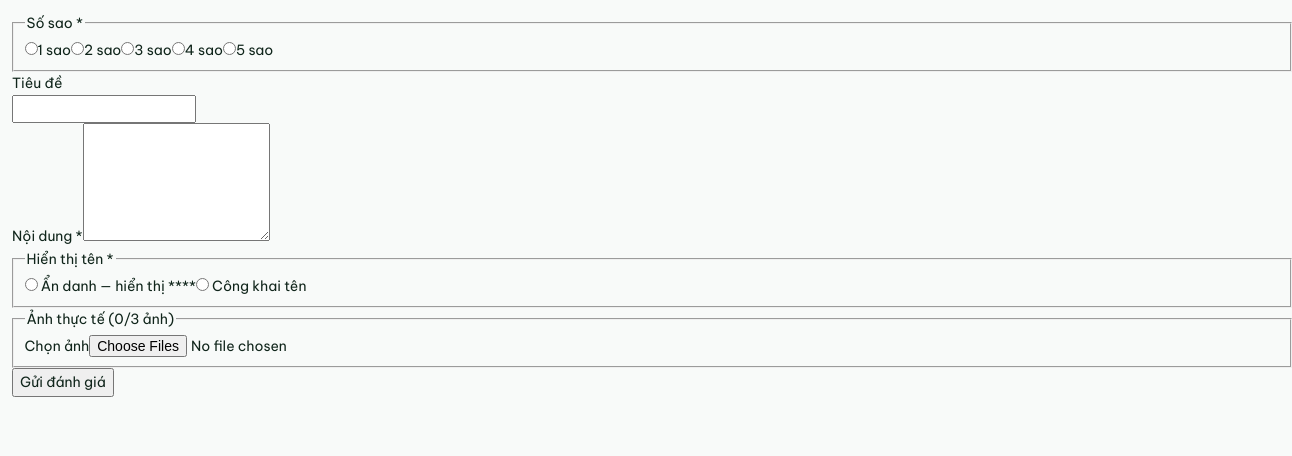
it: ReviewForm submission › preserves values without a false identity error after a failed save
Click the radio button labelled "5 sao": (229, 49) [223,42,236,55]
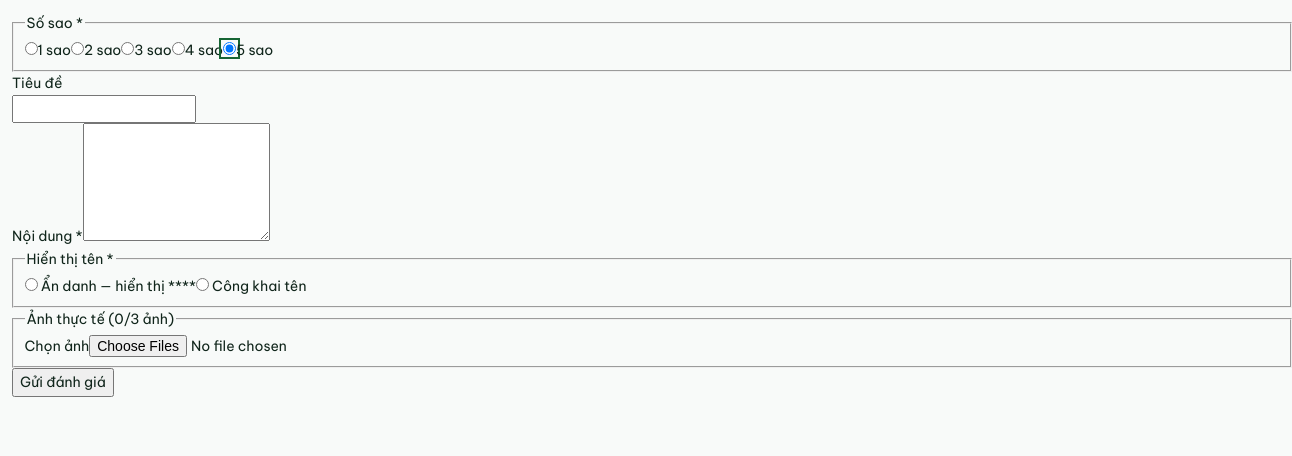
Click the radio button labelled "Công khai tên": (202, 284) [196,278,209,291]
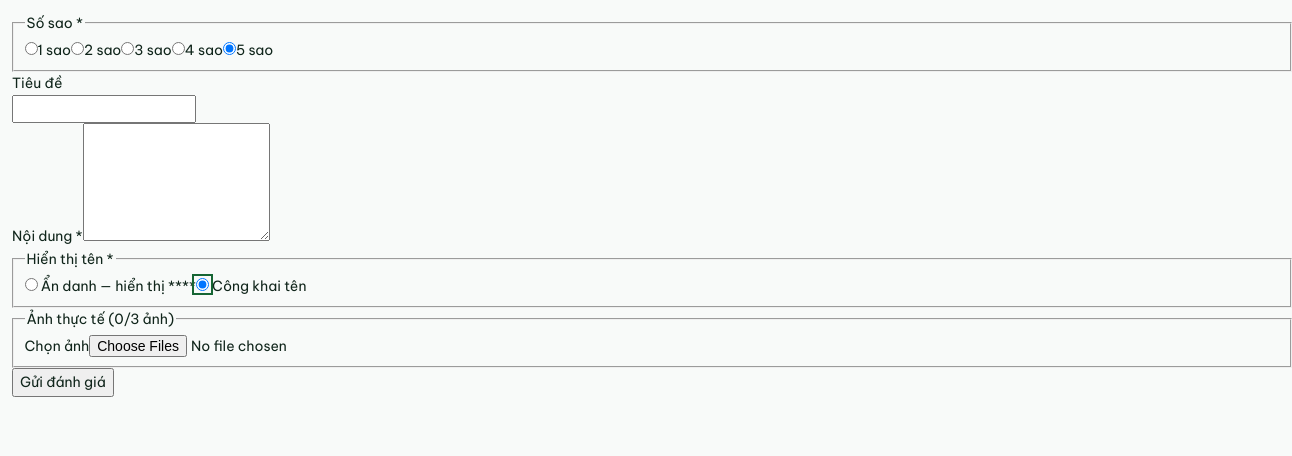
In the text box labelled "Nội dung": (176, 182) [83,123,270,241], type "Giữ nội dung sau khi lỗi."
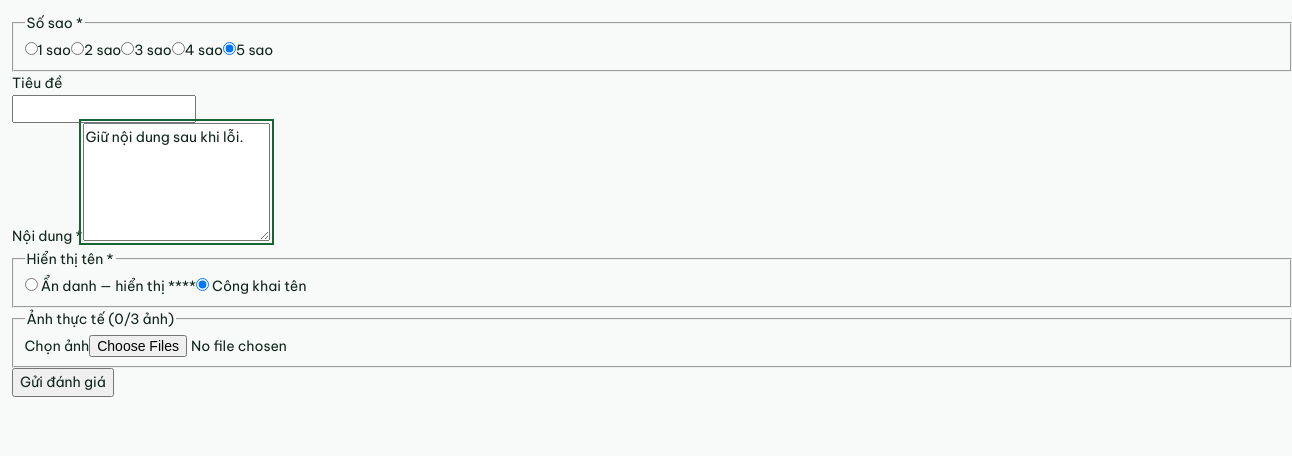
Click the button "Gửi đánh giá": (63, 383) [12,368,114,397]
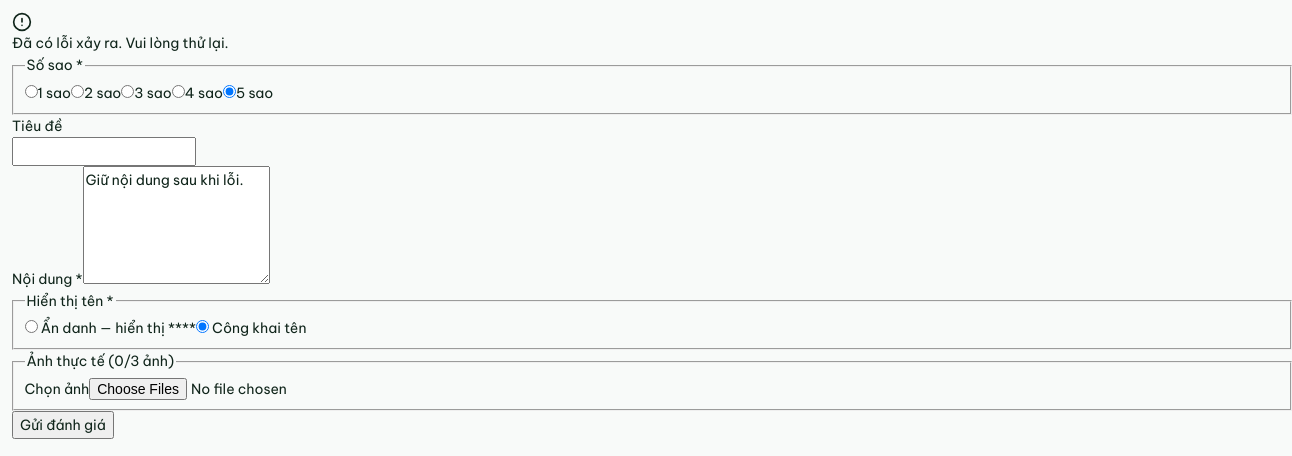
Expected: the radio button labelled "5 sao" is checked, [223,85,236,98]
Expected: the radio button labelled "Công khai tên" is checked, [196,320,209,333]
Expected: the message reads "Đã có lỗi xảy ra. Vui lòng thử lại.", [12,34,229,52]
